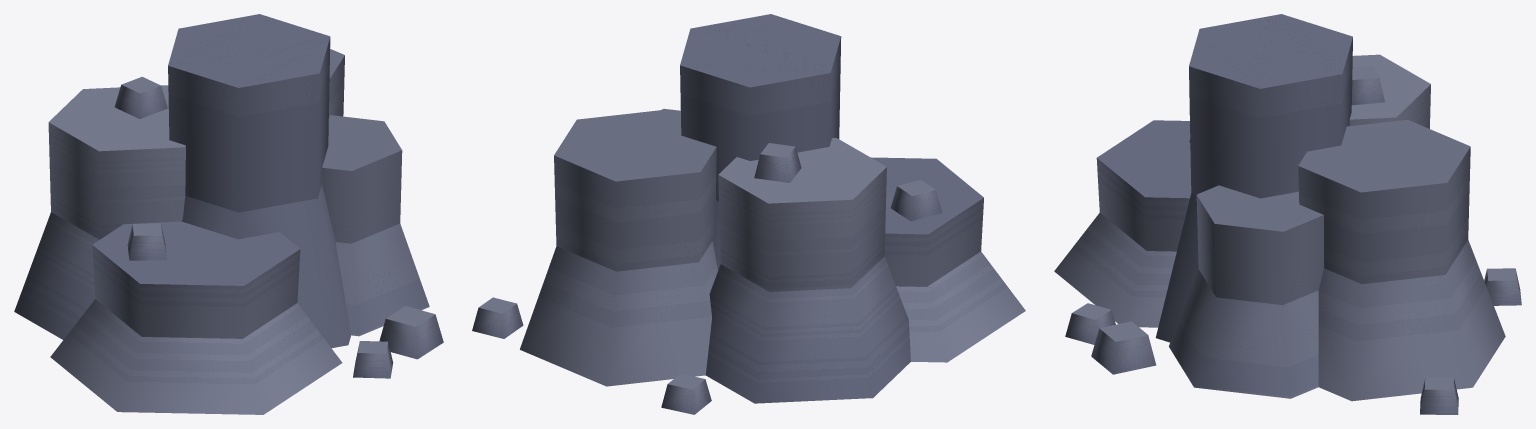
The model's file is rocks-c.glb.
3 renders of one model, left to right at view 1: azimuth 30°, elevation 25°; view 2: azimuth 150°, elevation 25°; view 3: azimuth 270°, elevation 25°, orthographic.
Parts seen in each view (by area): view 1: rocks-c; view 2: rocks-c; view 3: rocks-c.
Part boxes in pixels (x1=…): rocks-c: x1=14, y1=14, x2=443, y2=414; rocks-c: x1=472, y1=14, x2=1025, y2=414; rocks-c: x1=1054, y1=14, x2=1521, y2=414.
Bounding box in the file's own units: 3.64 × 2.3 × 3.67.
Materials: 1 (1 with a texture image).
